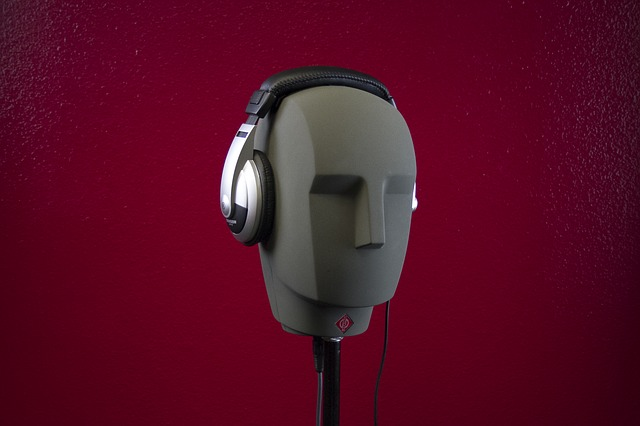headphones: (220, 67, 418, 248)
